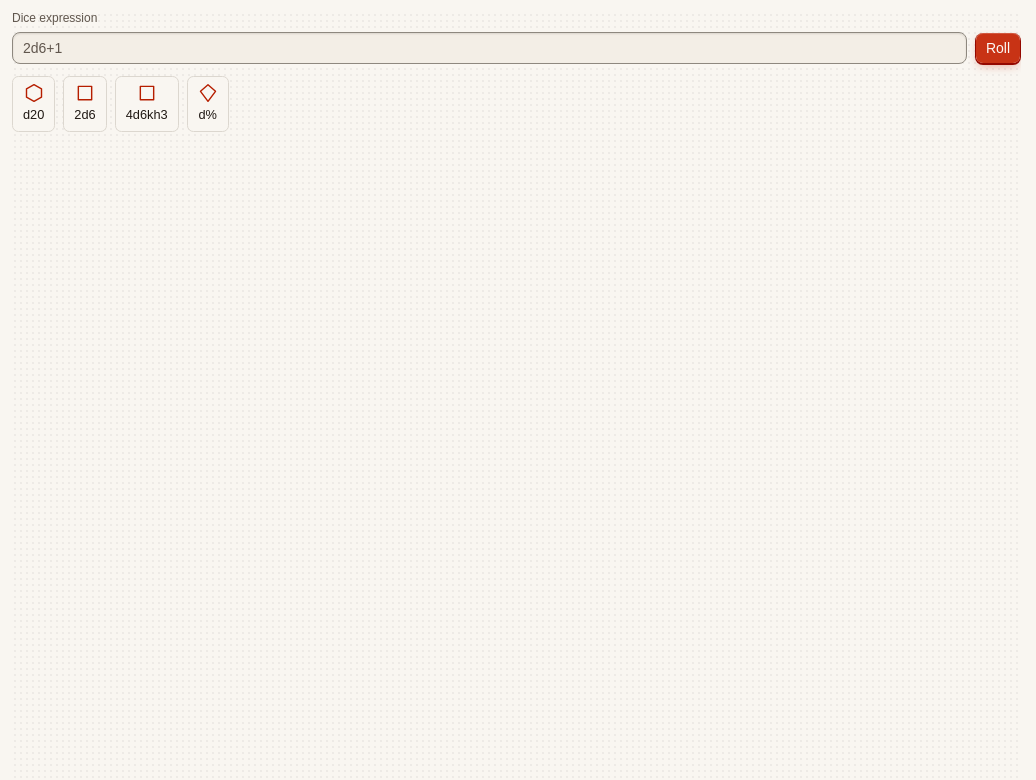
it: DiceRoller › rolls a preset immediately and puts it in the input
Click the button named "Roll d%": (208, 104) [187,76,229,132]
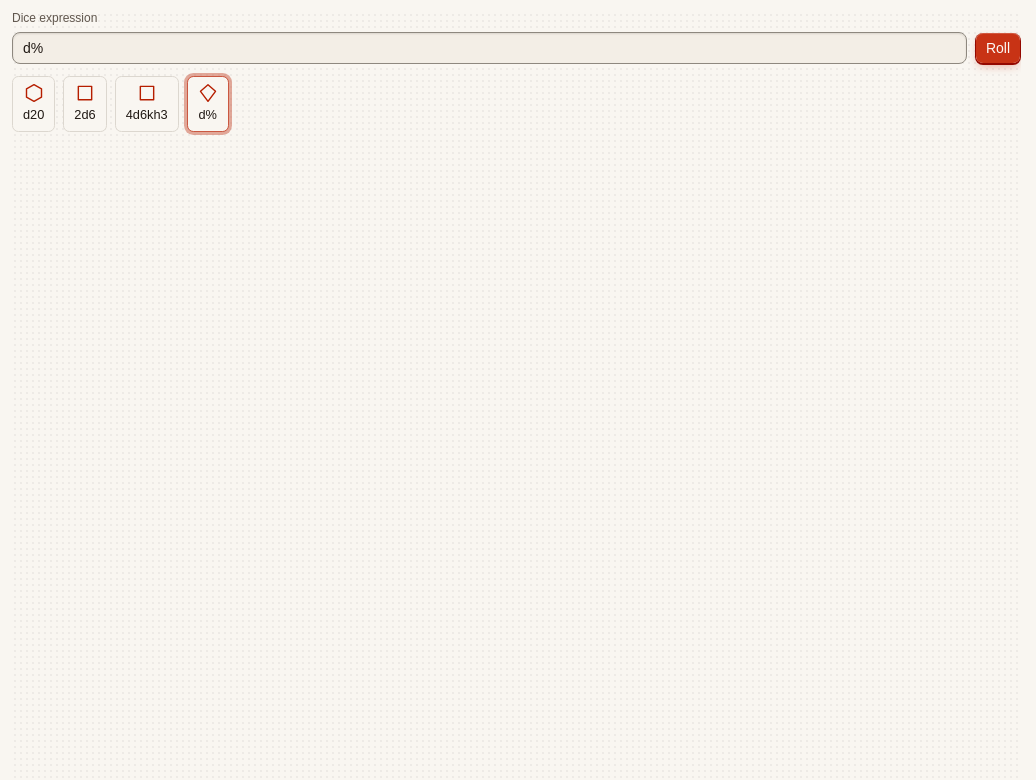
Expected: the field labelled "Dice expression" holds "d%", [12,32,967,64]
